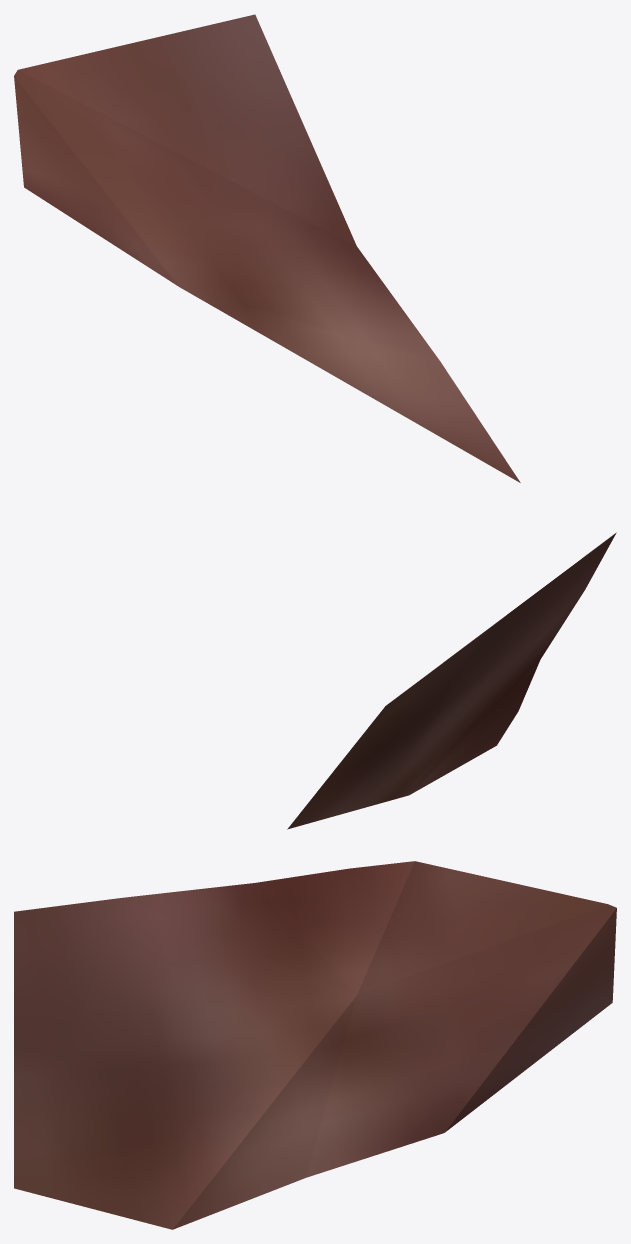
3 views of the same model, one above another, from view 1: azimuth 30°, elevation 25°; view 2: azimuth 150°, elevation 25°; view 3: azimuth 270°, elevation 25° (orthographic). The views are drawn at different scales.
Size of the model in its own units: 0.0401 by 0.03 by 0.0722.
Materials: 1 (1 with a texture image).
